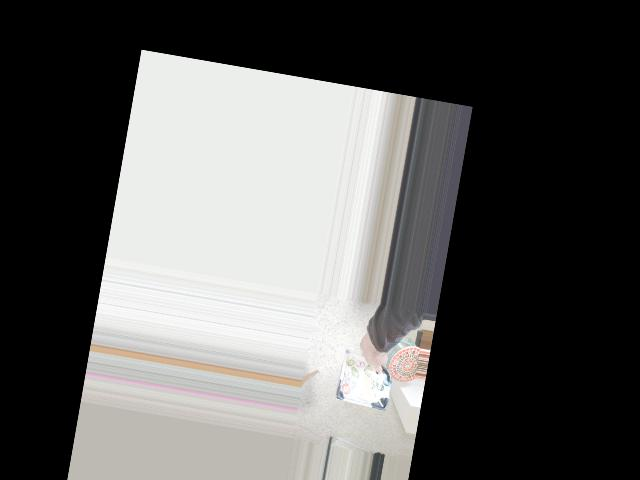cheese: (328, 332, 405, 409)
